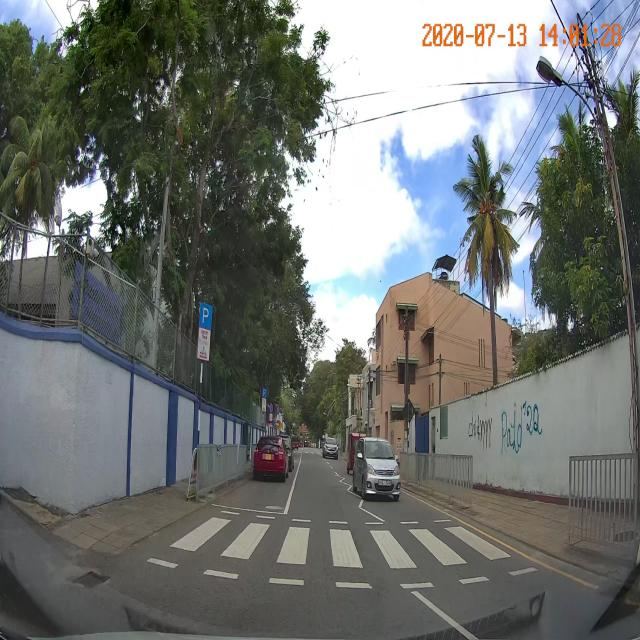Crosswalk: (127, 507, 545, 590)
